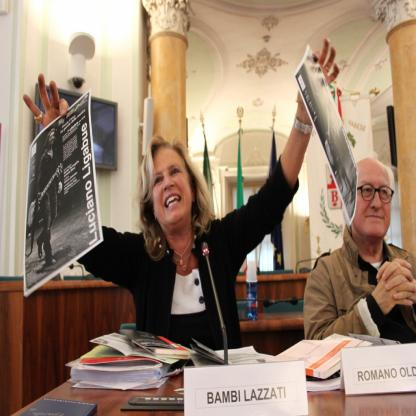book: (266, 339, 372, 382)
